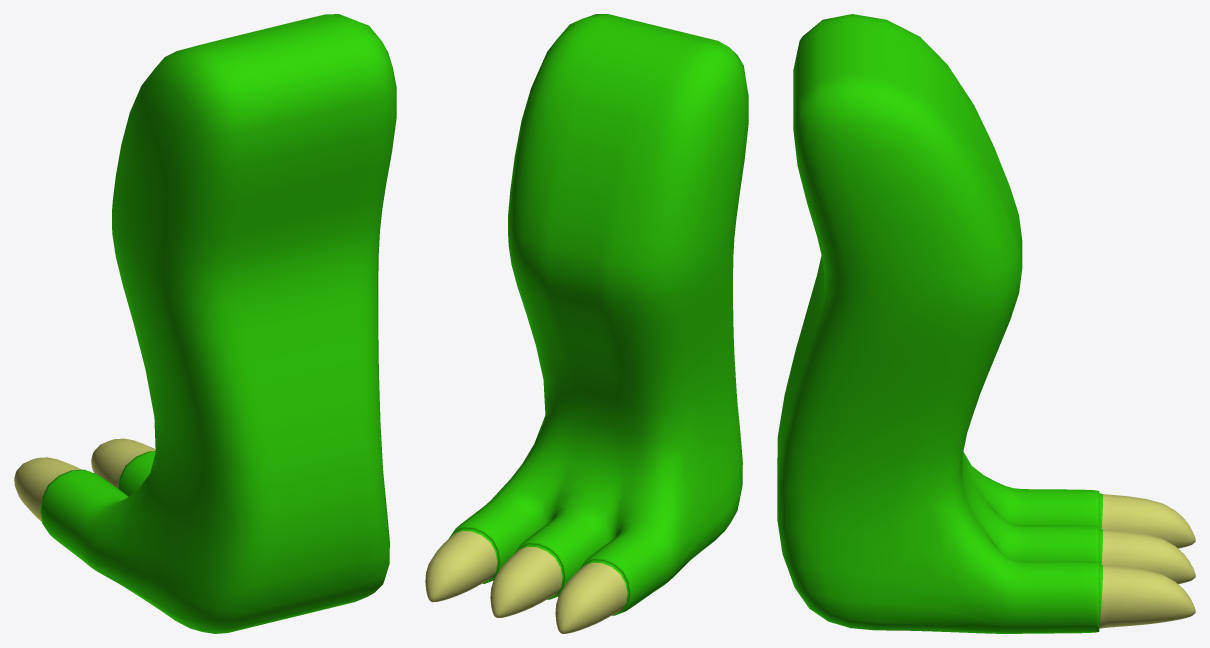
Rendered from patte.fbx.
3 views of the same model, side by side, from view 1: azimuth 30°, elevation 25°; view 2: azimuth 150°, elevation 25°; view 3: azimuth 270°, elevation 25° (orthographic). The views are drawn at different scales.
Parts seen in each view (by area): view 1: Cube; view 2: Cube; view 3: Cube.
Boxes of the visible parts, x1,y1,x2,y2 form: Cube: (14,14,396,633); Cube: (425,14,748,633); Cube: (777,14,1195,633).
Bounding box in the file's own units: 645 × 1581 × 1093.
